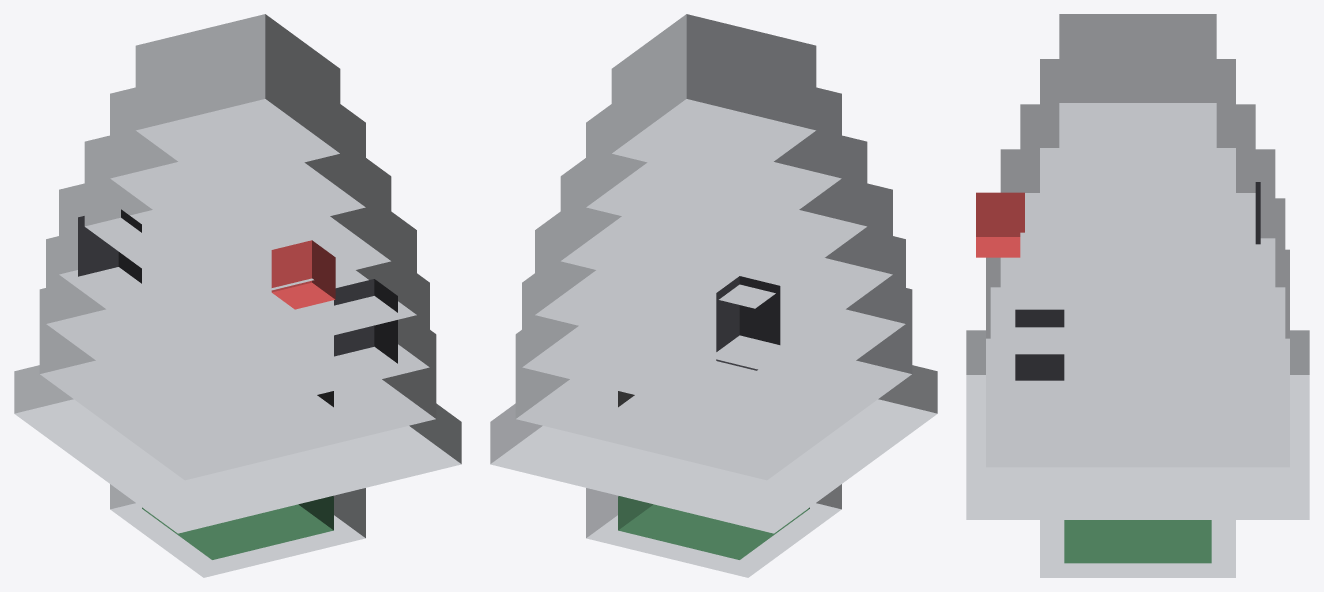
Rendered from head_drum.gltf.
The picture shows the model from 3 angles, left to right: view 1: azimuth 30°, elevation 25°; view 2: azimuth 150°, elevation 25°; view 3: azimuth 270°, elevation 25°; orthographic projection. The views are drawn at different scales.
Visible parts, largest first — view 1: head_drum; view 2: head_drum; view 3: head_drum.
Part boxes in pixels (x1,y1,x2,y2): head_drum: (14, 14, 461, 577); head_drum: (490, 14, 937, 577); head_drum: (966, 14, 1309, 577).
Size of the model in its own units: 0.07 by 0.11 by 0.07.
